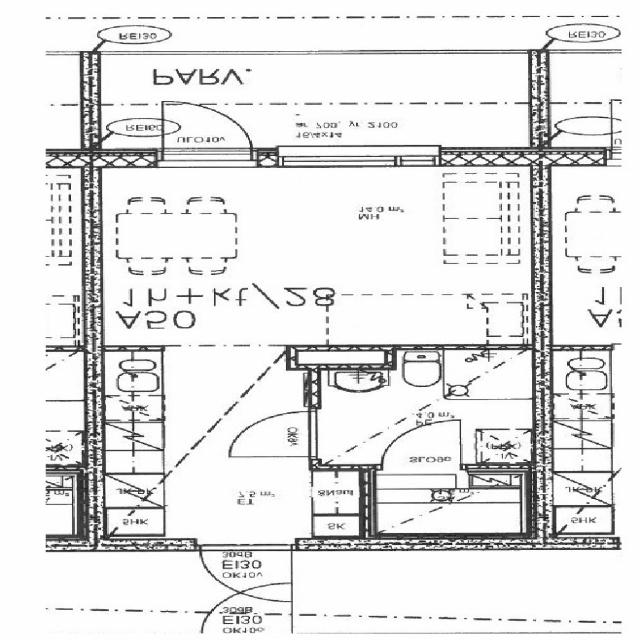door: (164, 97, 252, 167), (200, 539, 292, 603), (382, 420, 461, 472), (229, 412, 321, 456)
